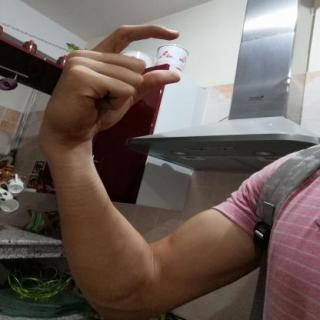DELL: (35, 17, 192, 149)
